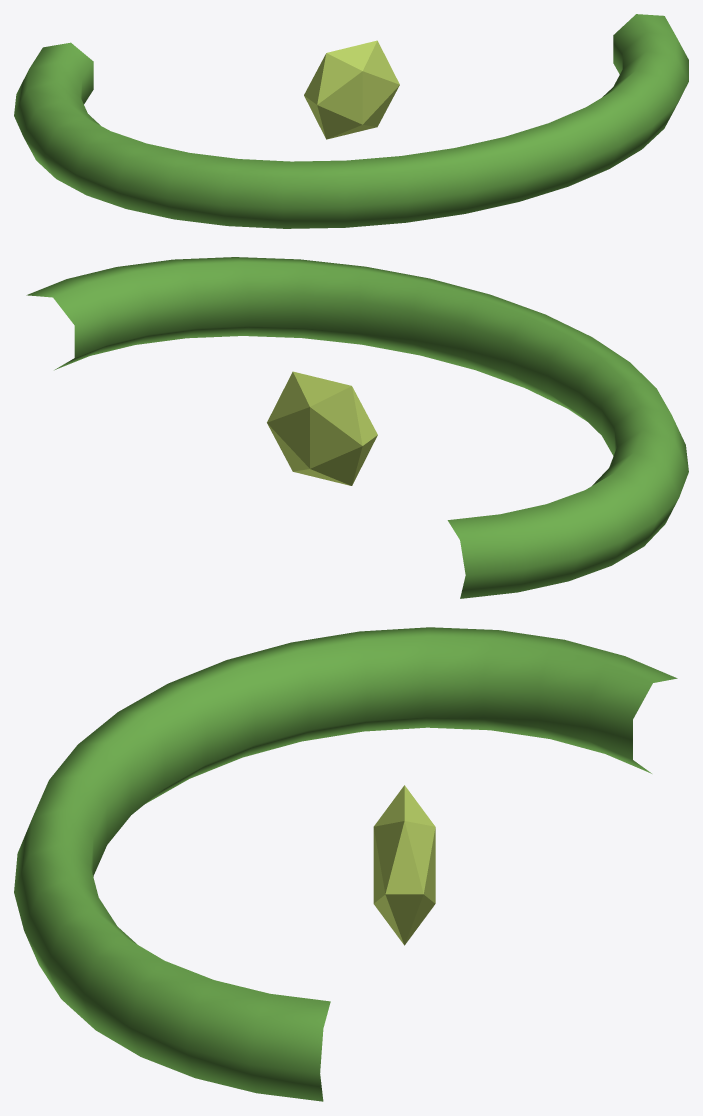
Rendered from wpn_m_02.glb.
3 views of the same model, one above another, from view 1: azimuth 30°, elevation 25°; view 2: azimuth 150°, elevation 25°; view 3: azimuth 270°, elevation 25° (orthographic). The views are drawn at different scales.
Visible parts, largest first — view 1: attack_arc, attack_core; view 2: attack_arc, attack_core; view 3: attack_arc, attack_core.
Part boxes in pixels (x1,y1,x2,y2): attack_arc: [14, 14, 688, 228]; attack_core: [304, 40, 399, 139]; attack_arc: [26, 257, 688, 598]; attack_core: [267, 371, 377, 485]; attack_arc: [14, 627, 677, 1101]; attack_core: [373, 785, 435, 945].
Bounding box in the file's own units: 1.25 × 0.1735 × 0.8506.
